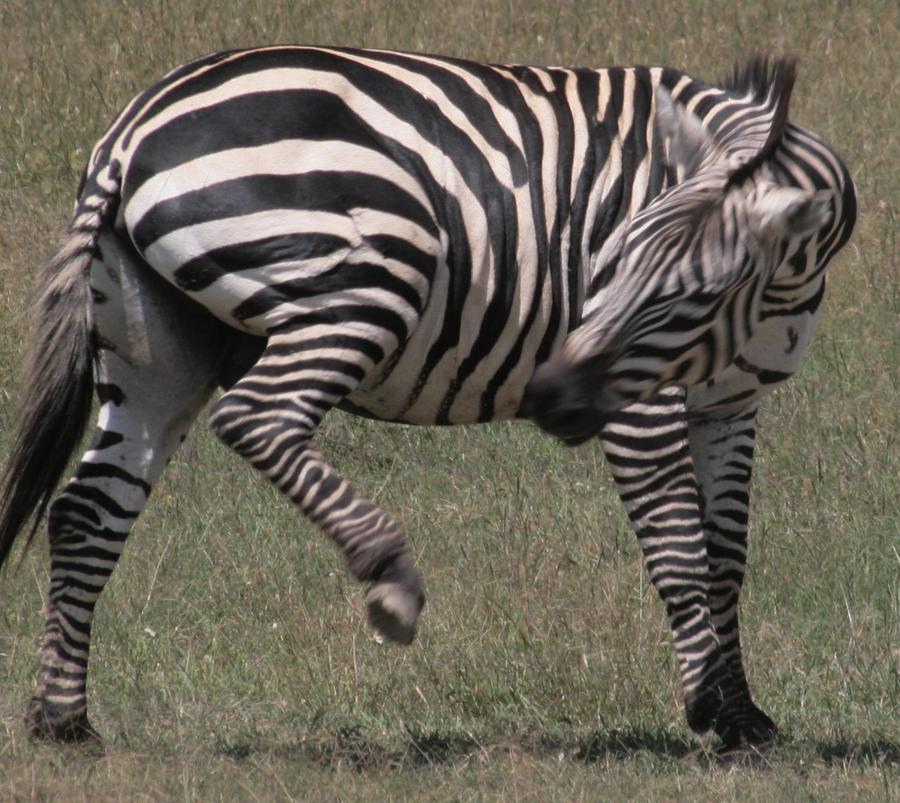zebra_plains: (244, 54, 726, 405)
